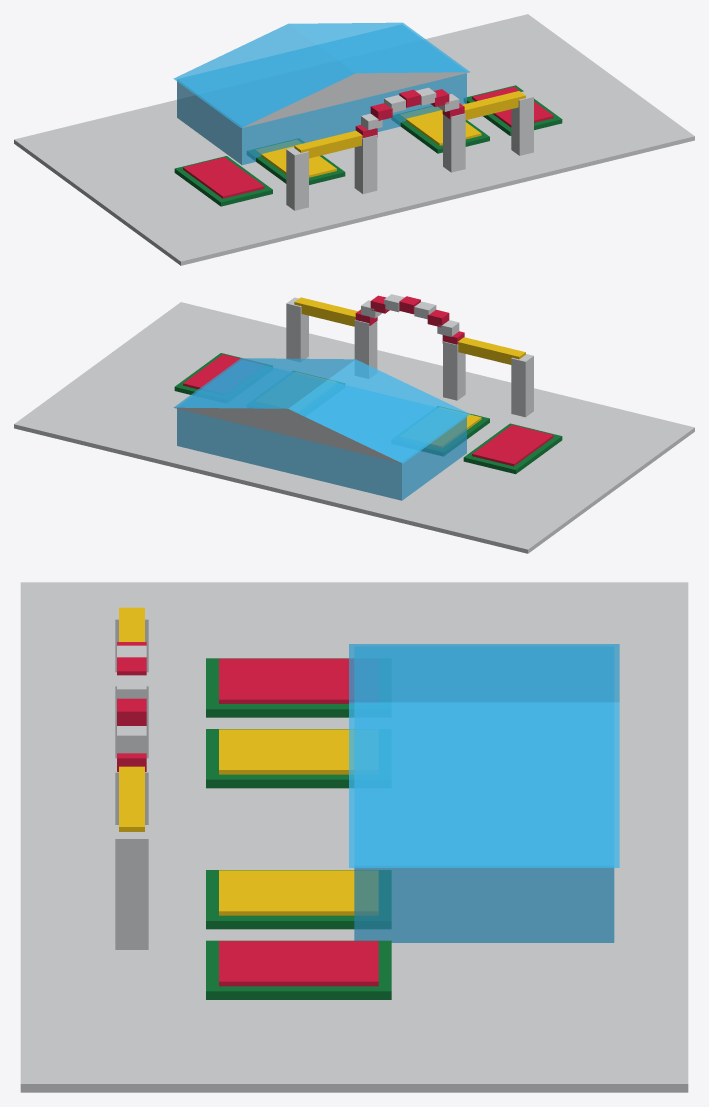
Rendered from lm_14_vuon_hoa_tp_gate_base.glb.
3 renders of one model, top to bottom at view 1: azimuth 30°, elevation 25°; view 2: azimuth 150°, elevation 25°; view 3: azimuth 270°, elevation 25°, orthographic. The views are drawn at different scales.
Parts seen in each view (by area): view 1: plaza_base, greenhouse_walls, greenhouse_roof_slope_l, greenhouse_roof_slope_r, greenhouse_roof_gable_f, parterre_bloom_-18.0, gate_pier_-14.0, gate_pier_5.5, gate_pier_14.0, gate_pier_-5.5, parterre_bloom_9.0, parterre_hedge_-18.0 (+7 smaller); view 2: plaza_base, greenhouse_walls, greenhouse_roof_slope_l, greenhouse_roof_slope_r, greenhouse_roof_gable_b, parterre_bloom_-18.0, gate_pier_-14.0, gate_pier_5.5, gate_pier_14.0, gate_pier_-5.5, parterre_hedge_-18.0, side_span_l (+4 smaller); view 3: plaza_base, greenhouse_walls, greenhouse_roof_slope_r, greenhouse_roof_slope_l, parterre_bloom_18.0, parterre_bloom_9.0, parterre_bloom_-9.0, parterre_bloom_-18.0, gate_pier_14.0, parterre_hedge_9.0, parterre_hedge_18.0, parterre_hedge_-9.0 (+5 smaller).
Part boxes in pixels (bbox=[...]): plaza_base: bbox=[14, 14, 694, 265]; greenhouse_walls: bbox=[177, 25, 466, 165]; greenhouse_roof_slope_l: bbox=[173, 24, 355, 127]; greenhouse_roof_slope_r: bbox=[288, 22, 470, 73]; greenhouse_roof_gable_f: bbox=[242, 72, 469, 127]; parterre_bloom_-18.0: bbox=[183, 157, 264, 198]; gate_pier_-14.0: bbox=[286, 147, 308, 210]; gate_pier_5.5: bbox=[443, 113, 465, 172]; gate_pier_14.0: bbox=[511, 91, 533, 155]; gate_pier_-5.5: bbox=[354, 135, 377, 193]; parterre_bloom_9.0: bbox=[400, 106, 481, 145]; parterre_hedge_-18.0: bbox=[174, 156, 272, 206]; plaza_base: bbox=[14, 302, 694, 553]; greenhouse_walls: bbox=[177, 360, 466, 500]; greenhouse_roof_slope_l: bbox=[288, 359, 470, 463]; greenhouse_roof_slope_r: bbox=[174, 358, 355, 408]; greenhouse_roof_gable_b: bbox=[174, 407, 401, 463]; parterre_bloom_-18.0: bbox=[472, 425, 553, 466]; gate_pier_-14.0: bbox=[511, 354, 533, 417]; gate_pier_5.5: bbox=[354, 319, 377, 378]; gate_pier_14.0: bbox=[286, 297, 308, 361]; gate_pier_-5.5: bbox=[443, 341, 465, 400]; parterre_hedge_-18.0: bbox=[463, 423, 562, 474]; side_span_l: bbox=[457, 337, 525, 364]; plaza_base: bbox=[20, 582, 688, 1092]; greenhouse_walls: bbox=[354, 647, 614, 942]; greenhouse_roof_slope_r: bbox=[349, 702, 619, 867]; greenhouse_roof_slope_l: bbox=[349, 644, 619, 702]; parterre_bloom_18.0: bbox=[219, 941, 378, 986]; parterre_bloom_9.0: bbox=[219, 870, 378, 915]; parterre_bloom_-9.0: bbox=[219, 729, 353, 774]; parterre_bloom_-18.0: bbox=[219, 658, 353, 703]; gate_pier_14.0: bbox=[115, 825, 148, 949]; parterre_hedge_9.0: bbox=[206, 870, 391, 929]; parterre_hedge_18.0: bbox=[206, 940, 391, 999]; parterre_hedge_-9.0: bbox=[206, 729, 353, 788].
Bounding box in the file's own units: 64 × 10.55 × 36.
